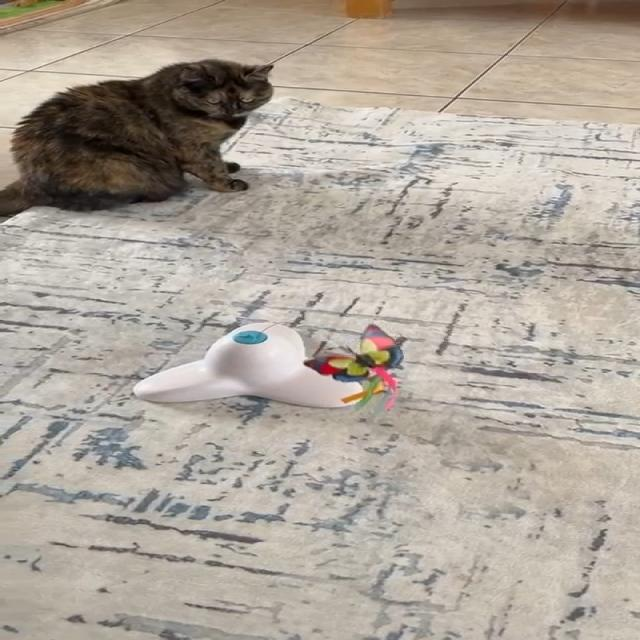authorized: (0, 58, 275, 218)
